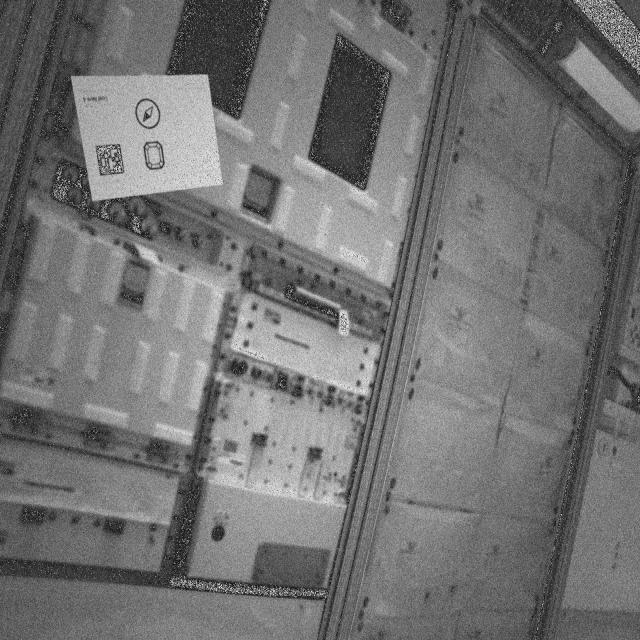compass: (134, 95, 165, 134)
emerald: (142, 141, 170, 173)
